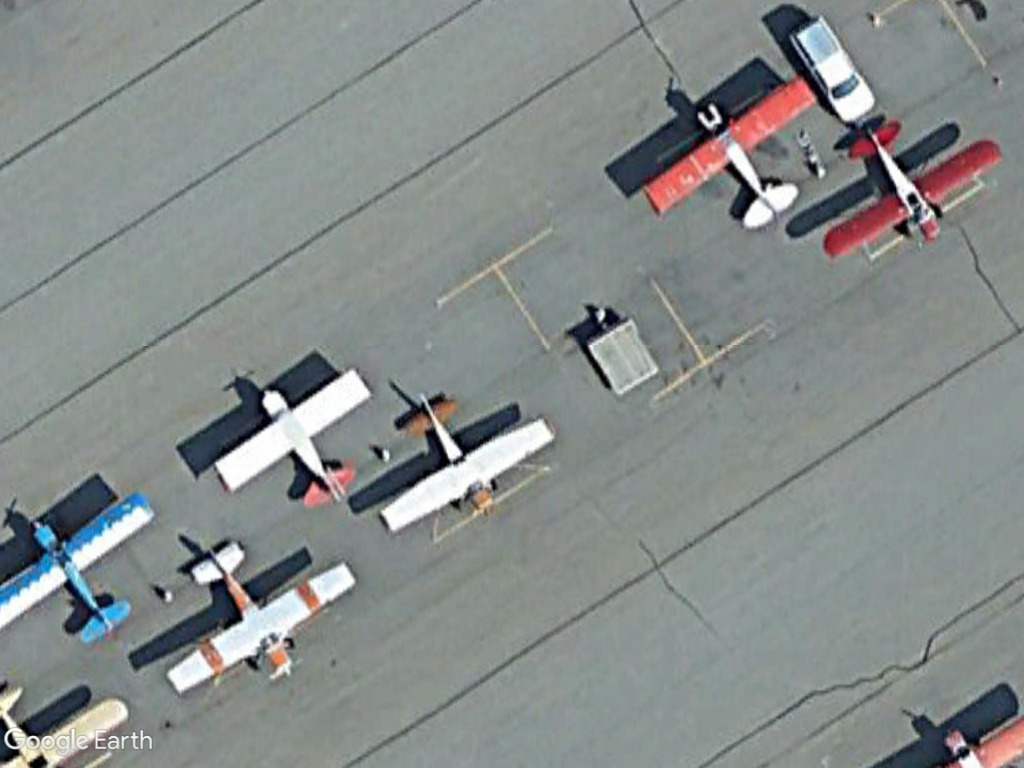car: (785, 16, 875, 125)
trainer: (159, 537, 361, 705), (641, 53, 817, 238), (816, 115, 1004, 266), (378, 389, 558, 542), (207, 362, 375, 516)
